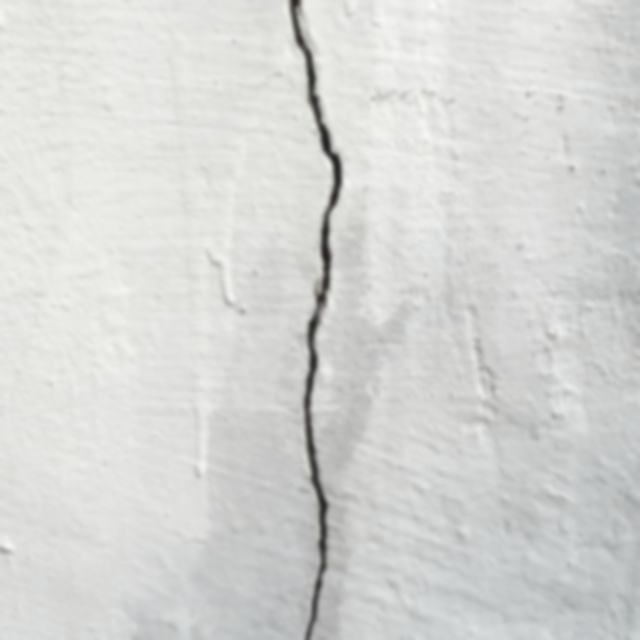SurfaceCrack: (248, 0, 386, 640)
